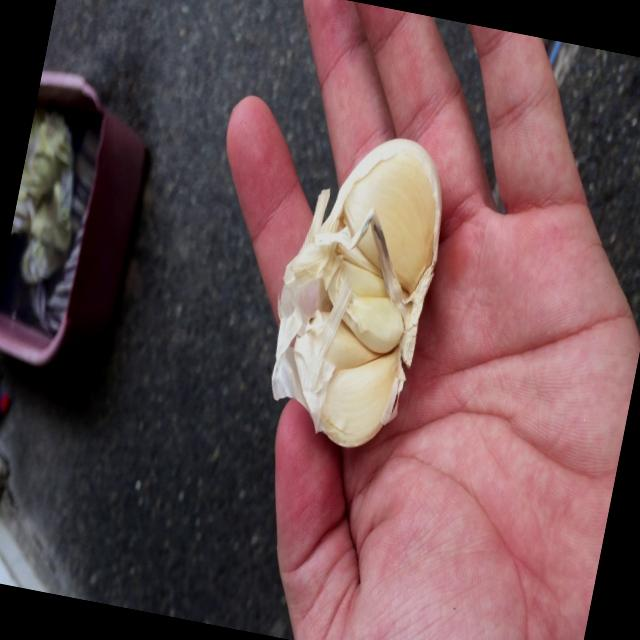bawang: (262, 117, 472, 460)
